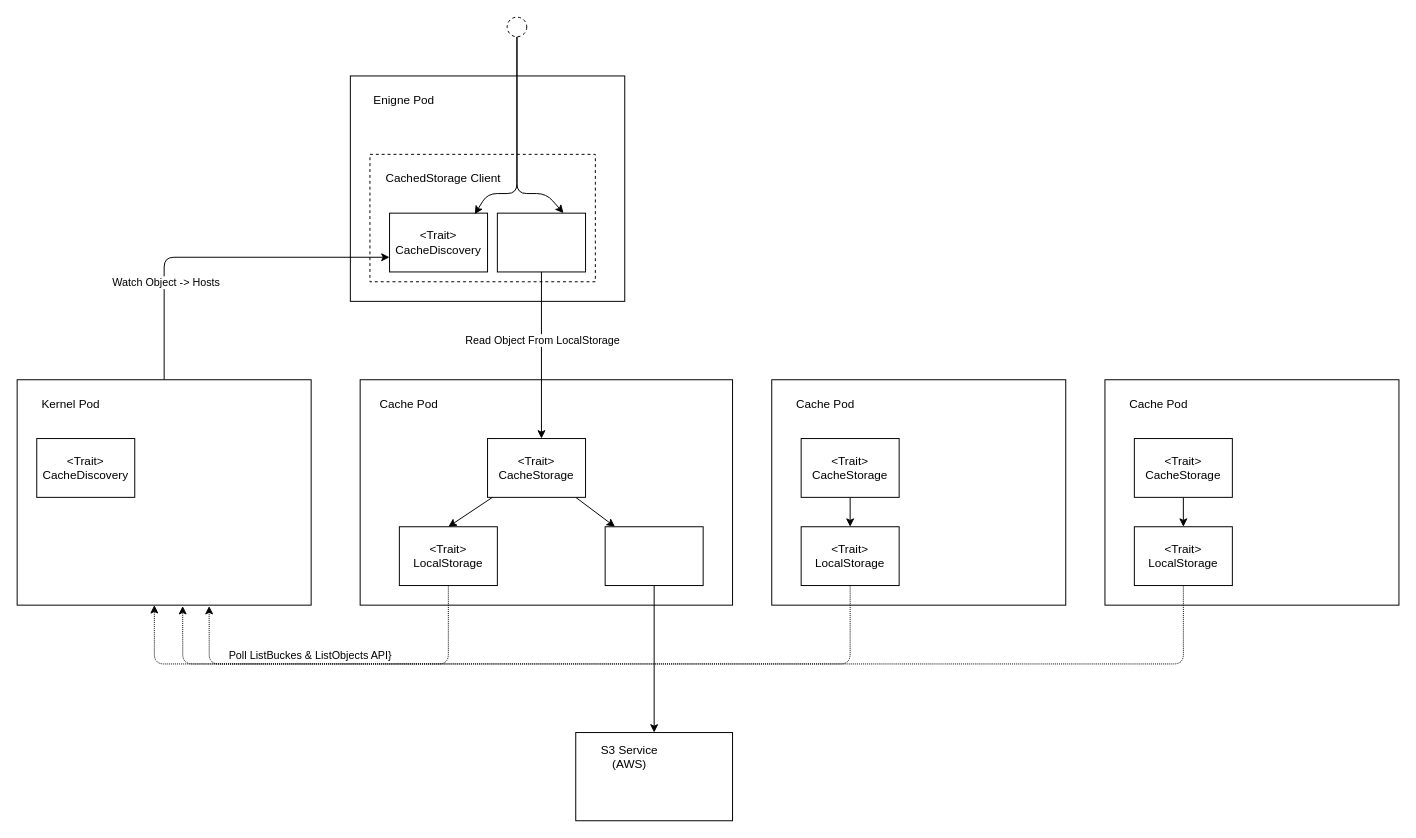
Some shapes in this 1416 by 838 pixel diagram are drawn without their labels. The shapes that lost their labels are listed below. From the top down, each one's box as (x1, y1, x2, y2) in pixels, then its label:
(496, 212, 586, 272): <Trait> gRPCStorage
(604, 526, 703, 586): <Trait> S3Storage
